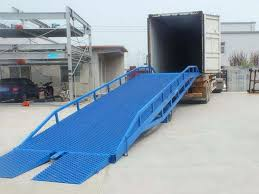Yard Ramp: (1, 64, 198, 182)
